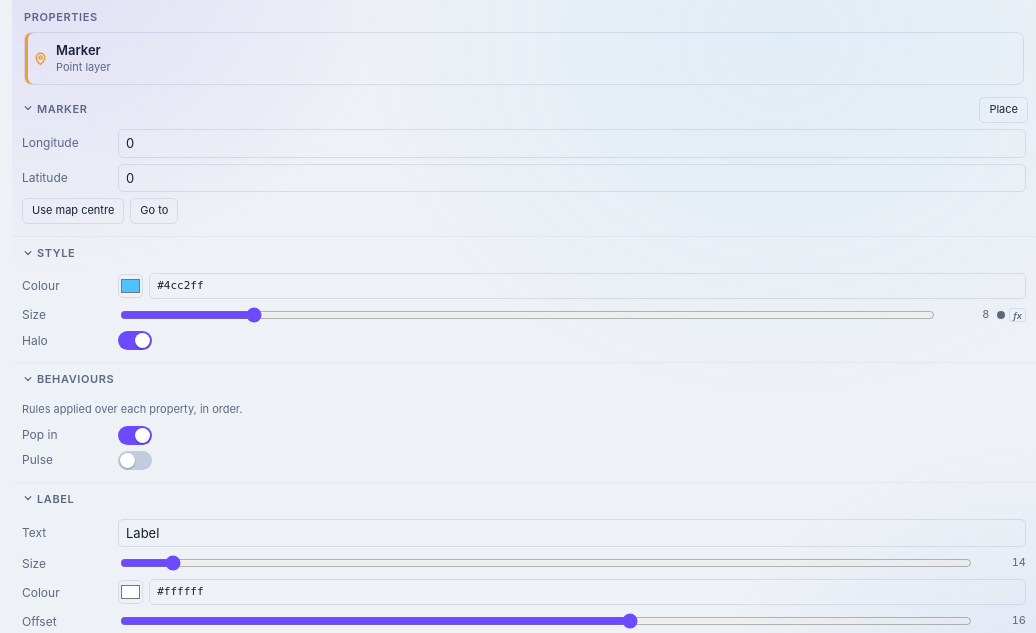
the fx toggle › shows what the formula comes to at the playhead, and why it does not
The width and height of the screenshot is (1036, 633).
Click the button "fx": click(1018, 315) [1009,308,1026,322]
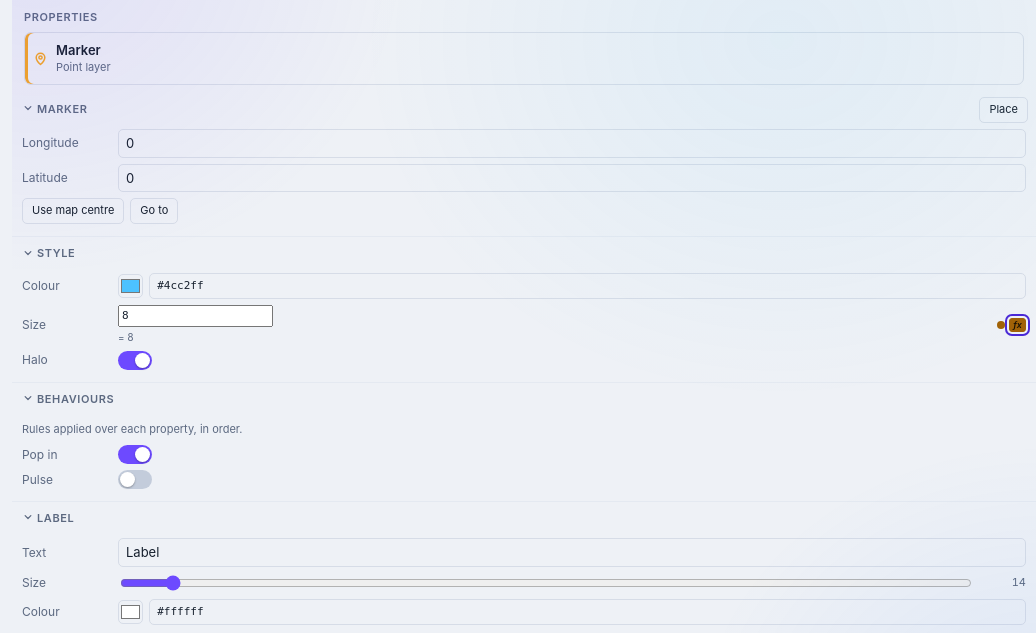
Replace the text in the field named "size expression" with "8 + 2 * t": (196, 316) [118,305,273,327]
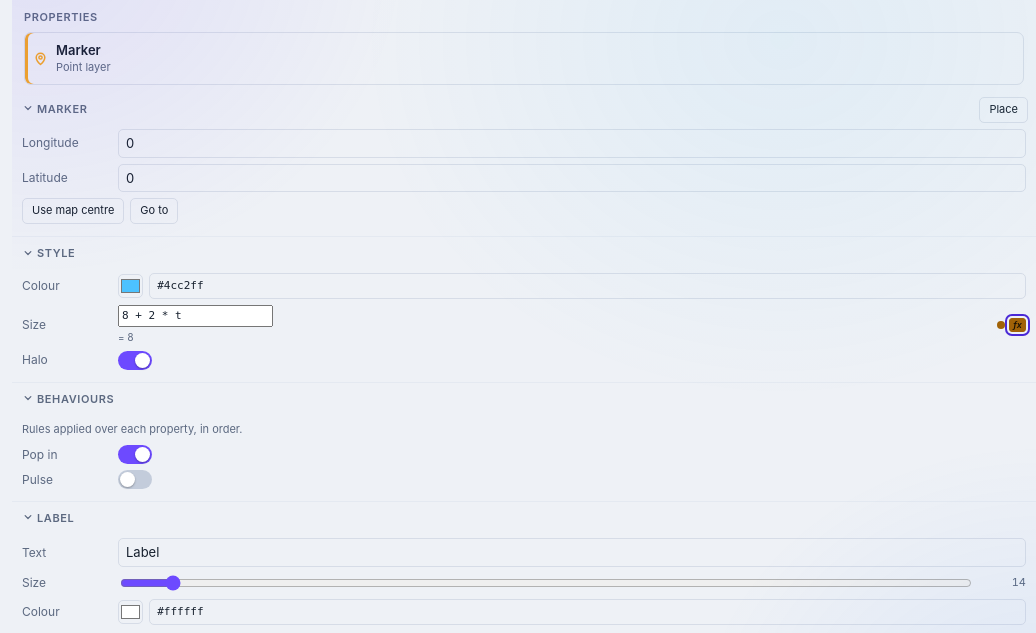
Result: the text "= 8" is shown at [118,331,134,343]
Replace the text in the field named "size expression" with "8 +": (196, 316) [118,305,273,327]
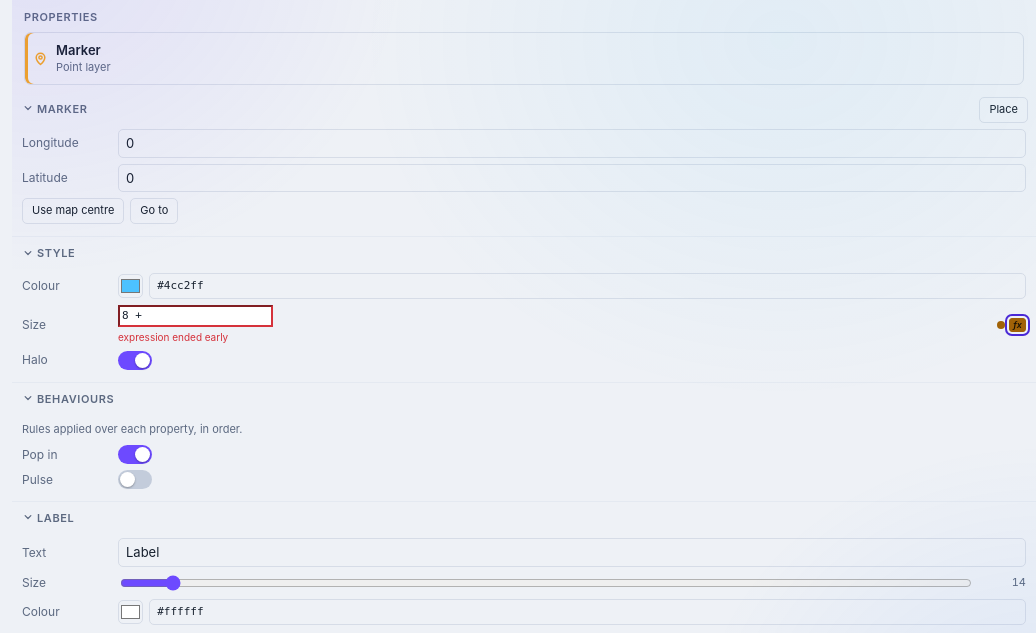
Result: the text "expression ended early" is shown at [118,331,228,343]
Replace the text in the field labelled "Size expression ended early" with "pop / 1000": (196, 316) [118,305,273,327]
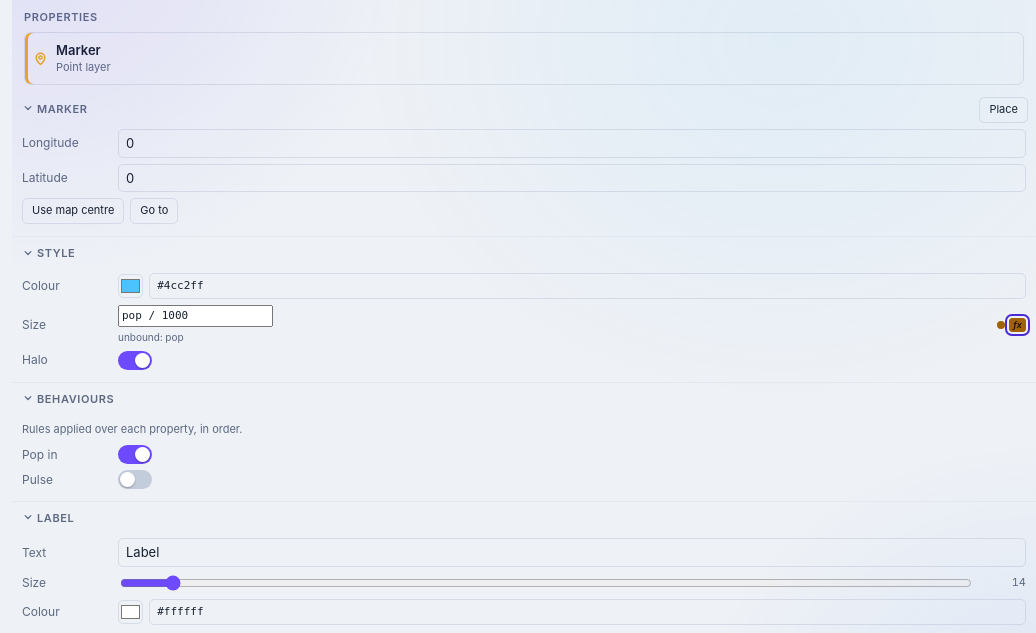
Result: the text "unbound: pop" is shown at [118,331,184,343]
